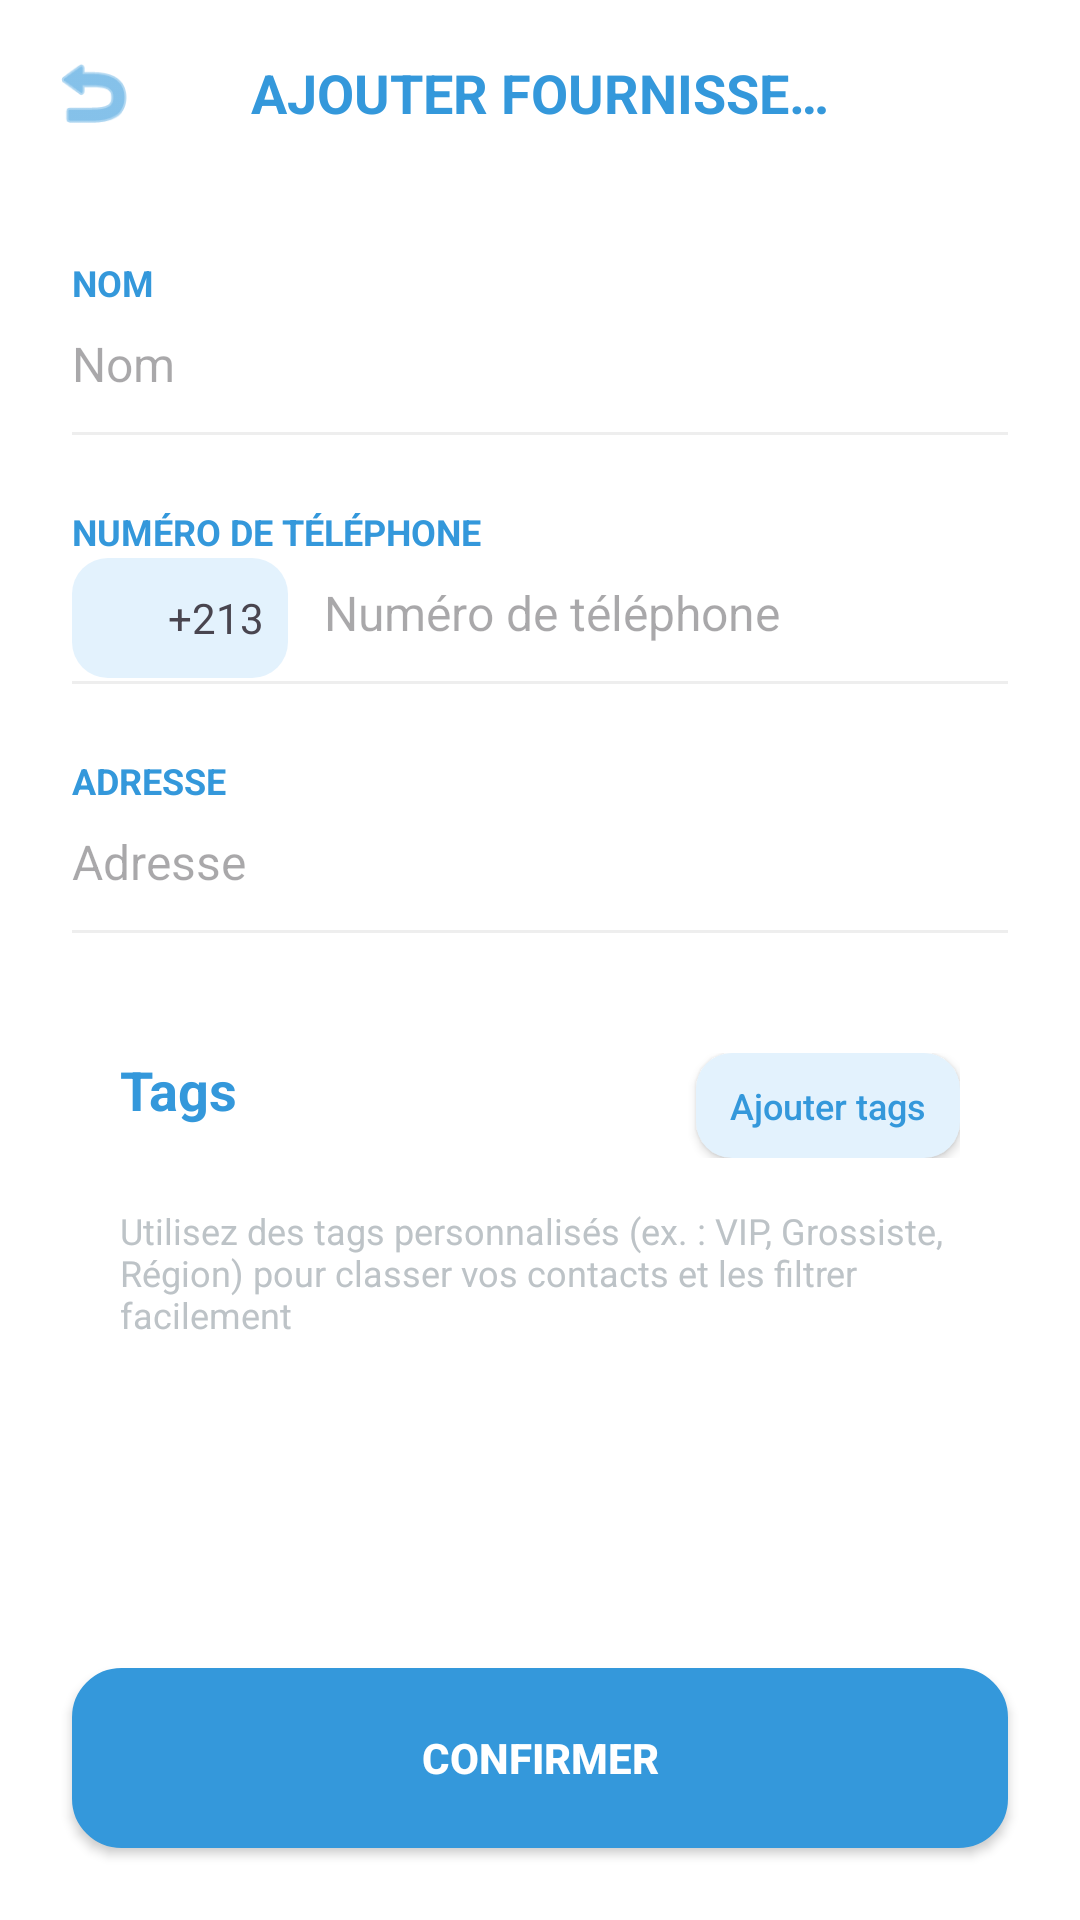

Locate icon controls on the screen. Image size 1080x1920, boxes as bbox(x1, y1, x2, y2).
revert: bbox(62, 64, 127, 123)
